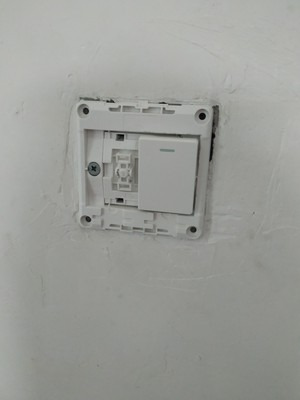switch: (135, 124, 198, 220)
